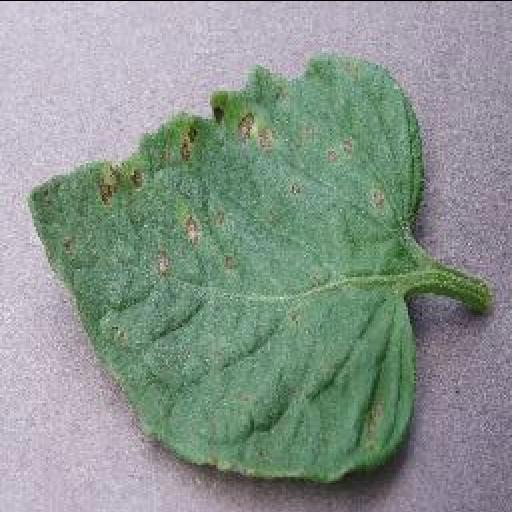disease_tomato: (28, 57, 424, 474)
